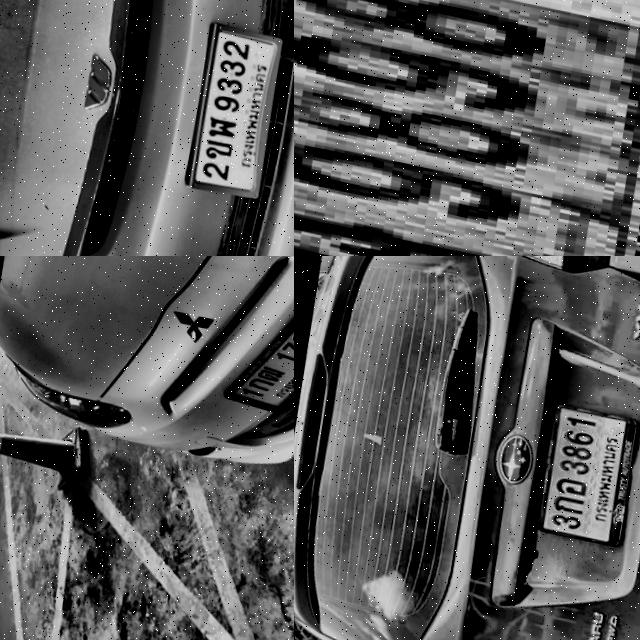license-plate: (294, 0, 640, 256), (172, 15, 289, 202), (527, 394, 640, 547), (213, 305, 294, 421)
